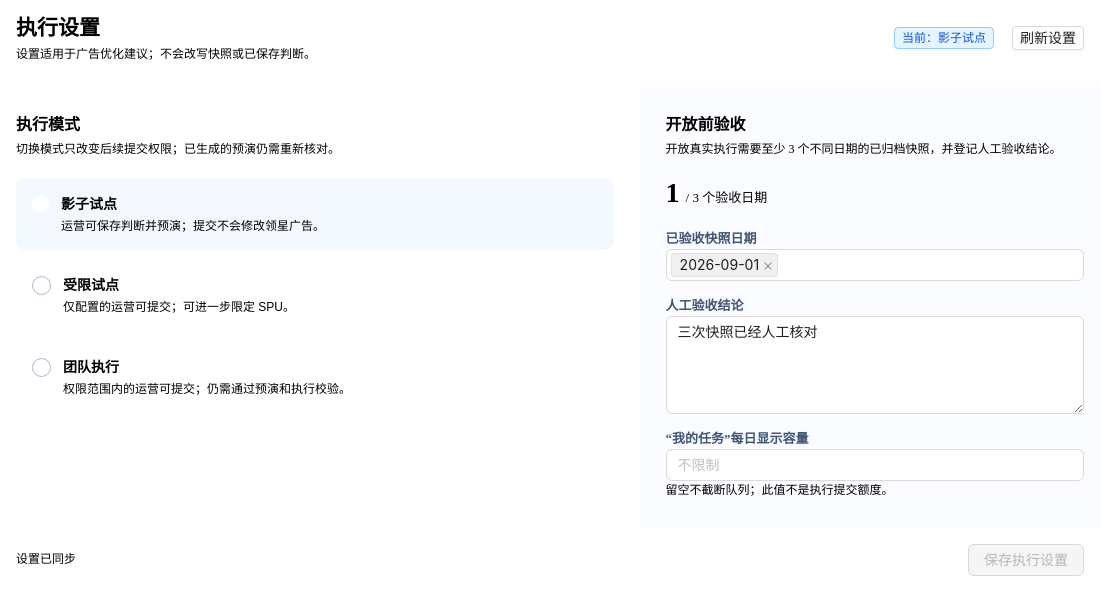
Test: task policy settings › keeps live modes unavailable without three verified dates
The width and height of the screenshot is (1101, 593).
Step 1. Click the radio button with class "mode-option" showing "团队执行 权限范围内的运营可提交；仍需通过预演和执行校验。" → click(91, 367), box [16,341,614,413]
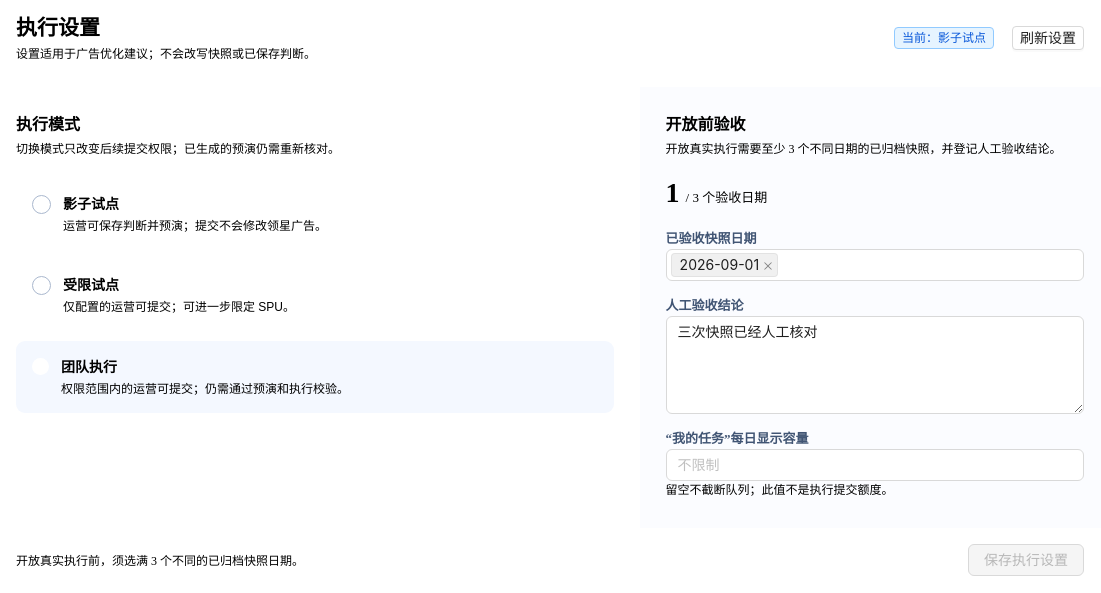
Expected: the button "保存执行设置" is disabled, [968,544,1084,576]
Result: the text "须选满 3 个不同的已归档快照日期" is shown at [16,554,304,568]
